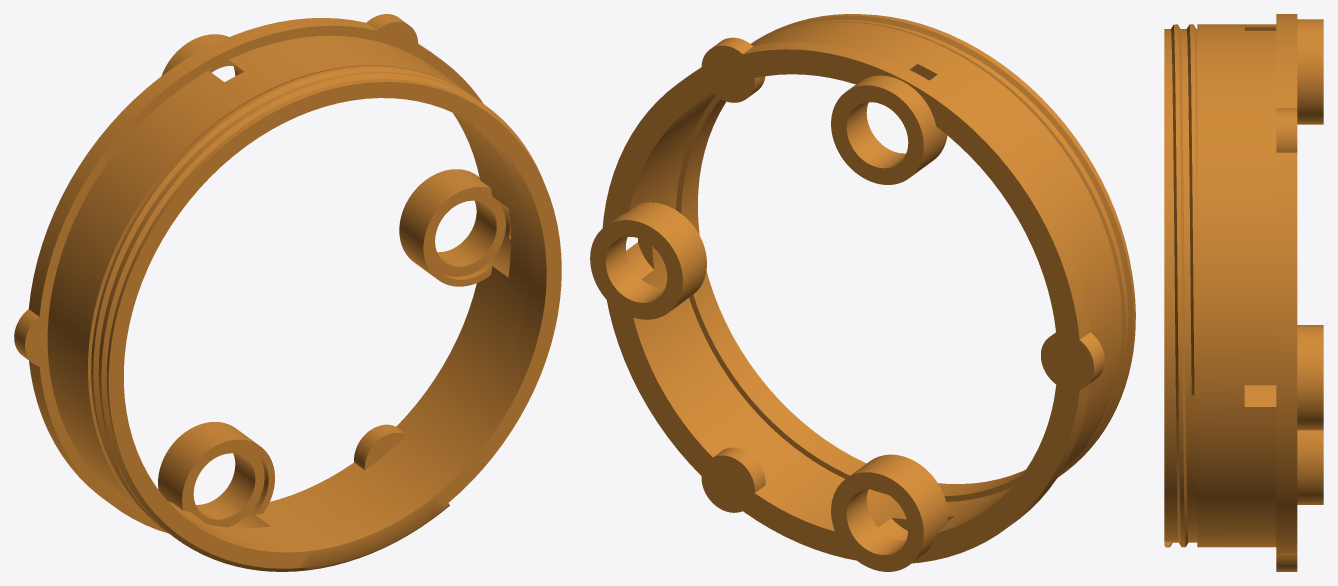
File: Bearing_Carrier.obj
The picture shows the model from 3 angles, left to right: view 1: azimuth 30°, elevation 25°; view 2: azimuth 150°, elevation 25°; view 3: azimuth 270°, elevation 25°; orthographic projection.
Visible parts, largest first — view 1: Bearing_Carrier; view 2: Bearing_Carrier; view 3: Bearing_Carrier.
Boxes of the visible parts, <box> form: Bearing_Carrier: <box>14,14,561,571</box>; Bearing_Carrier: <box>590,14,1135,571</box>; Bearing_Carrier: <box>1164,14,1323,571</box>.
Bounding box in the file's own units: 42.45 × 41.29 × 12.1.
